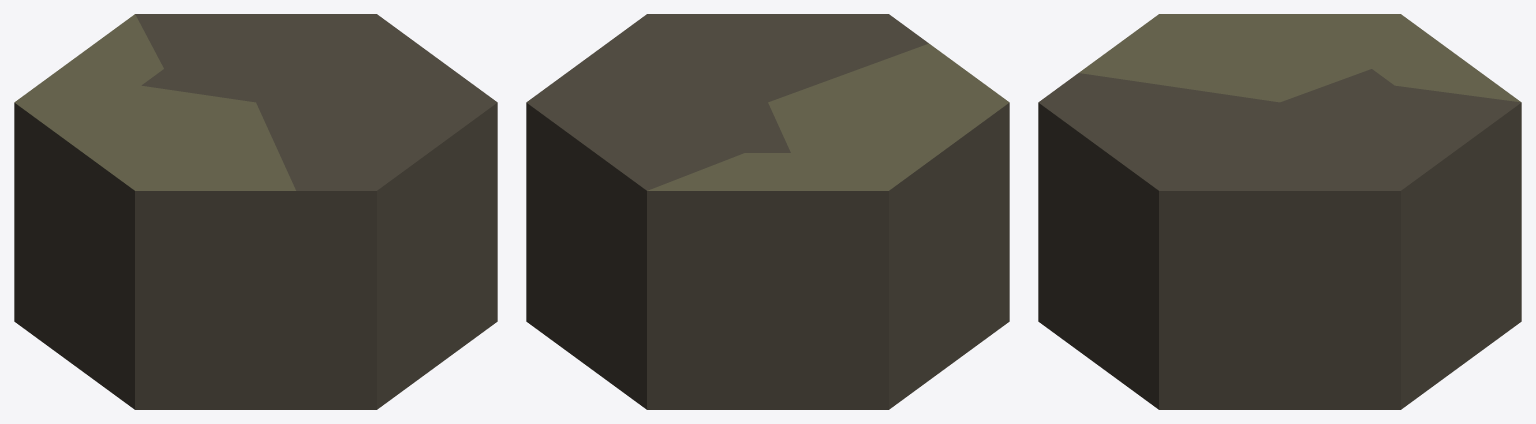
File: AE_Hex_Swamp_Peat.fbx
The picture shows the model from 3 angles, left to right: view 1: azimuth 30°, elevation 25°; view 2: azimuth 150°, elevation 25°; view 3: azimuth 270°, elevation 25°; orthographic projection.
Parts seen in each view (by area): view 1: AE_Hex_Swamp_Peat; view 2: AE_Hex_Swamp_Peat; view 3: AE_Hex_Swamp_Peat.
Part boxes in pixels (box(x1,y1,x2,y2)): AE_Hex_Swamp_Peat: box(14, 14, 497, 409); AE_Hex_Swamp_Peat: box(526, 14, 1009, 409); AE_Hex_Swamp_Peat: box(1038, 14, 1521, 409).
Bounding box in the file's own units: 1.73 × 1 × 2.
